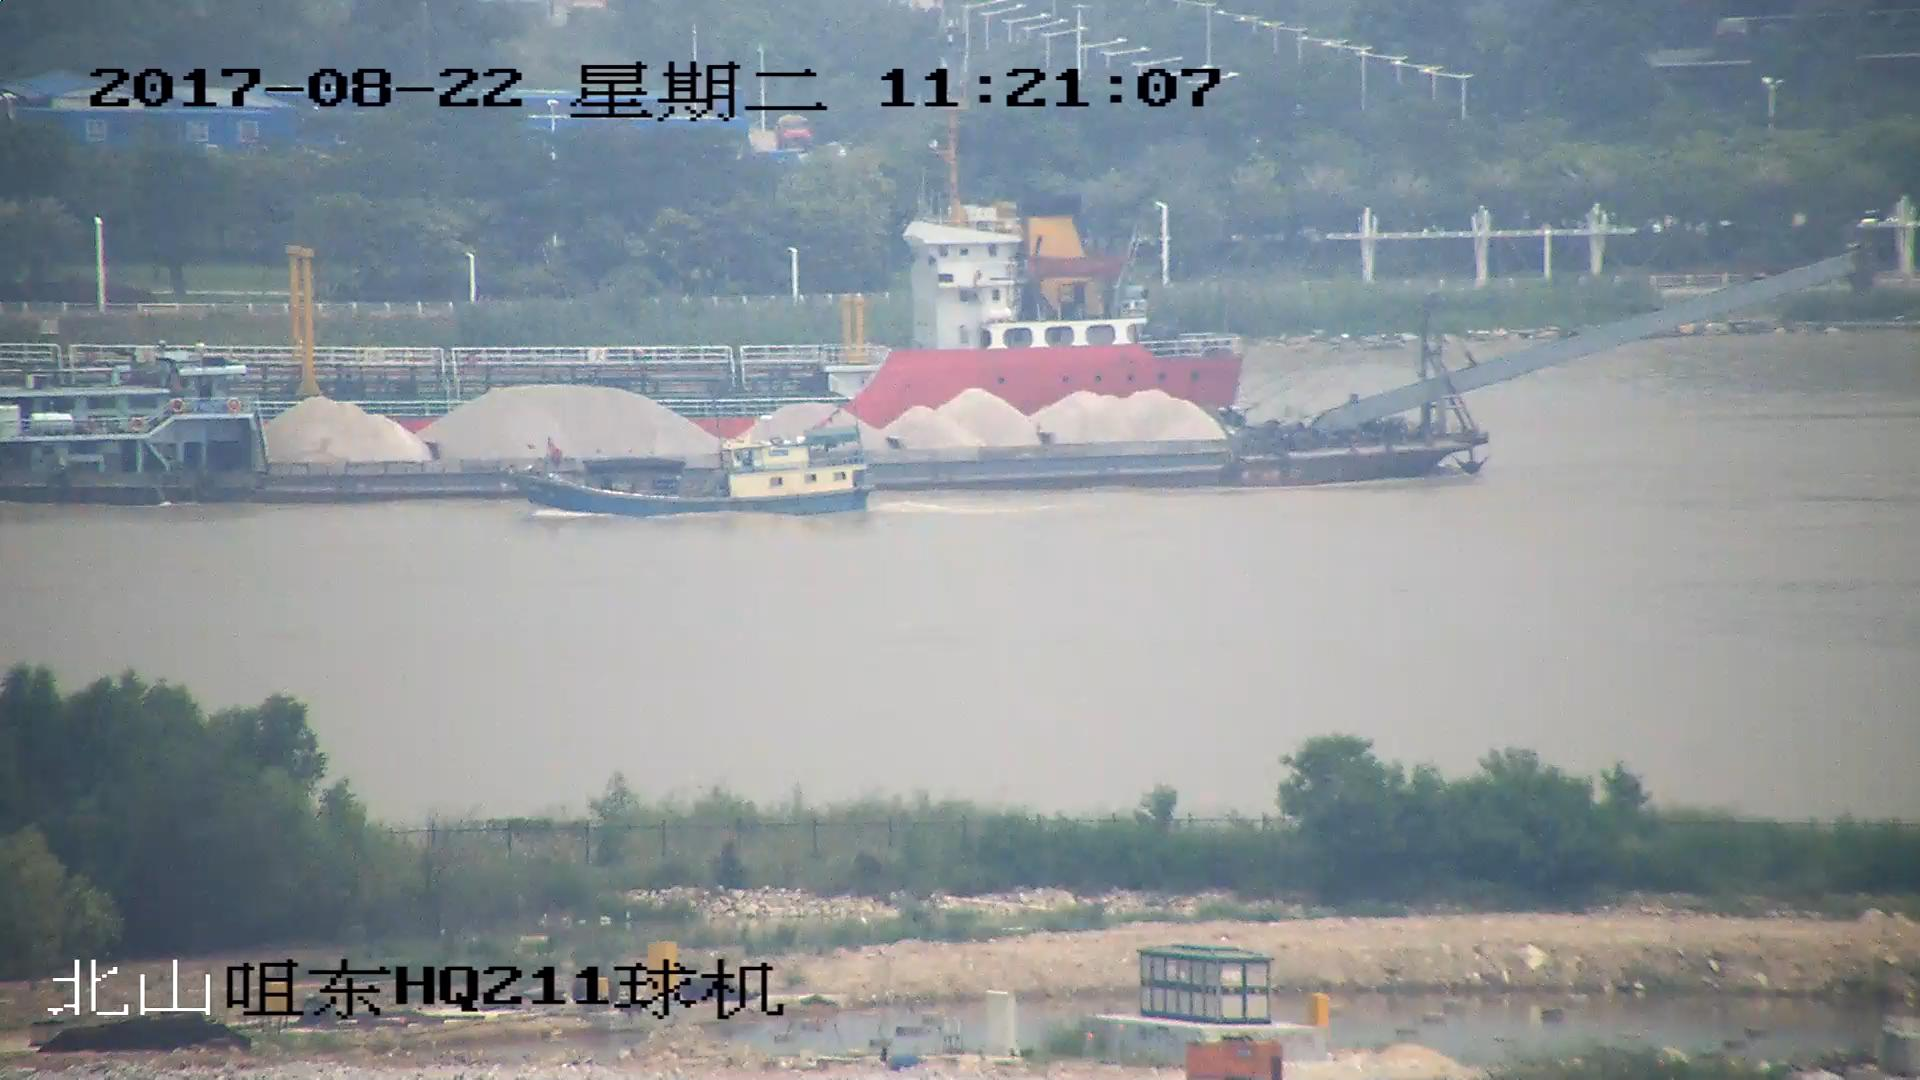fishing boat: (501, 424, 868, 522)
general cargo ship: (1, 115, 1246, 420)
ore carrier: (1, 248, 1863, 502)
